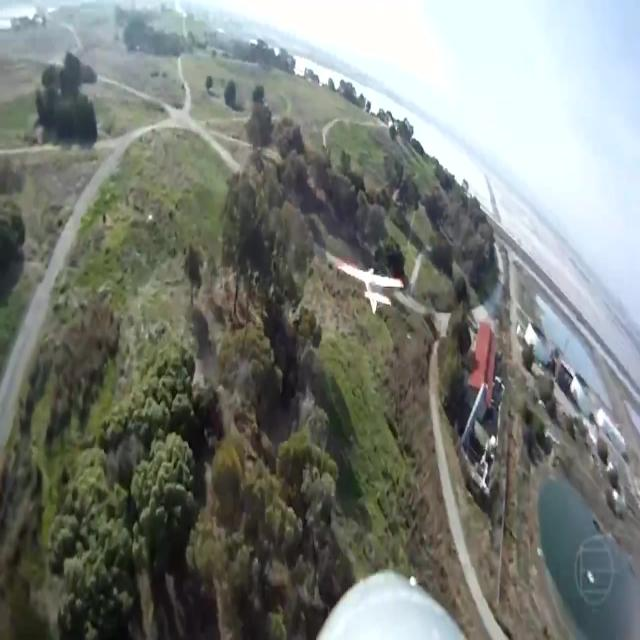iha: (354, 278, 376, 282)
